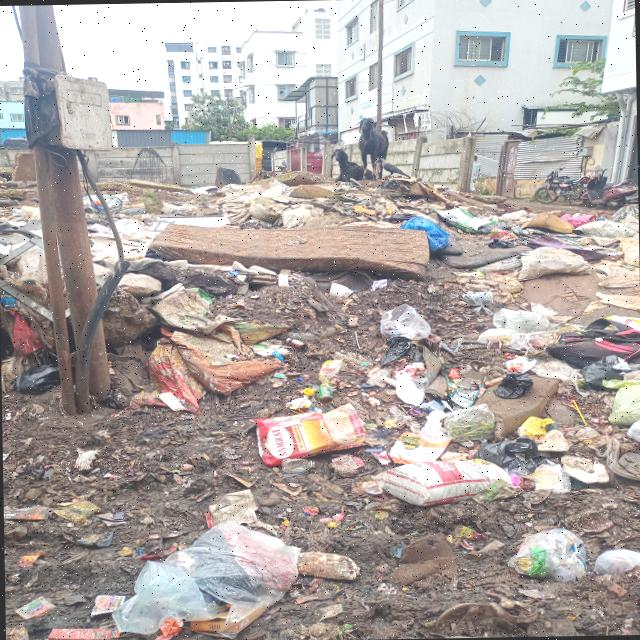garbage: (3, 178, 640, 640)
